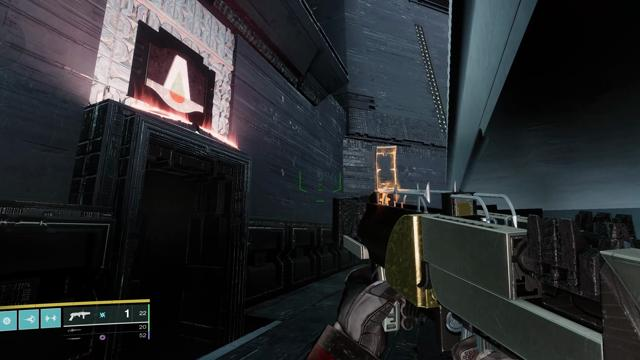enter: (146, 45, 203, 113)
